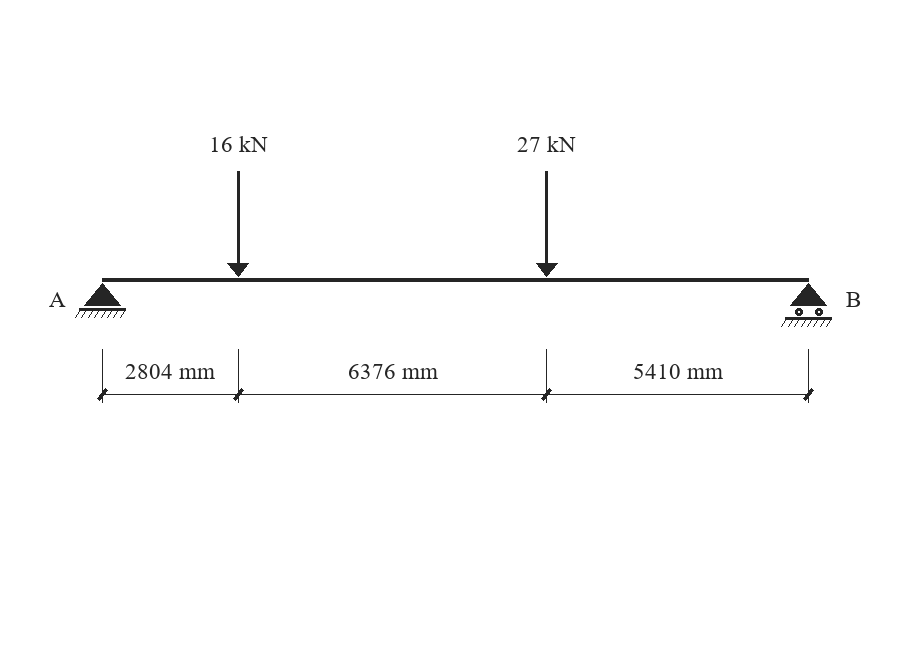pin_support: (75, 283, 126, 318)
point_load: (227, 171, 249, 277), (536, 171, 558, 277)
roller_support: (781, 283, 832, 327)
